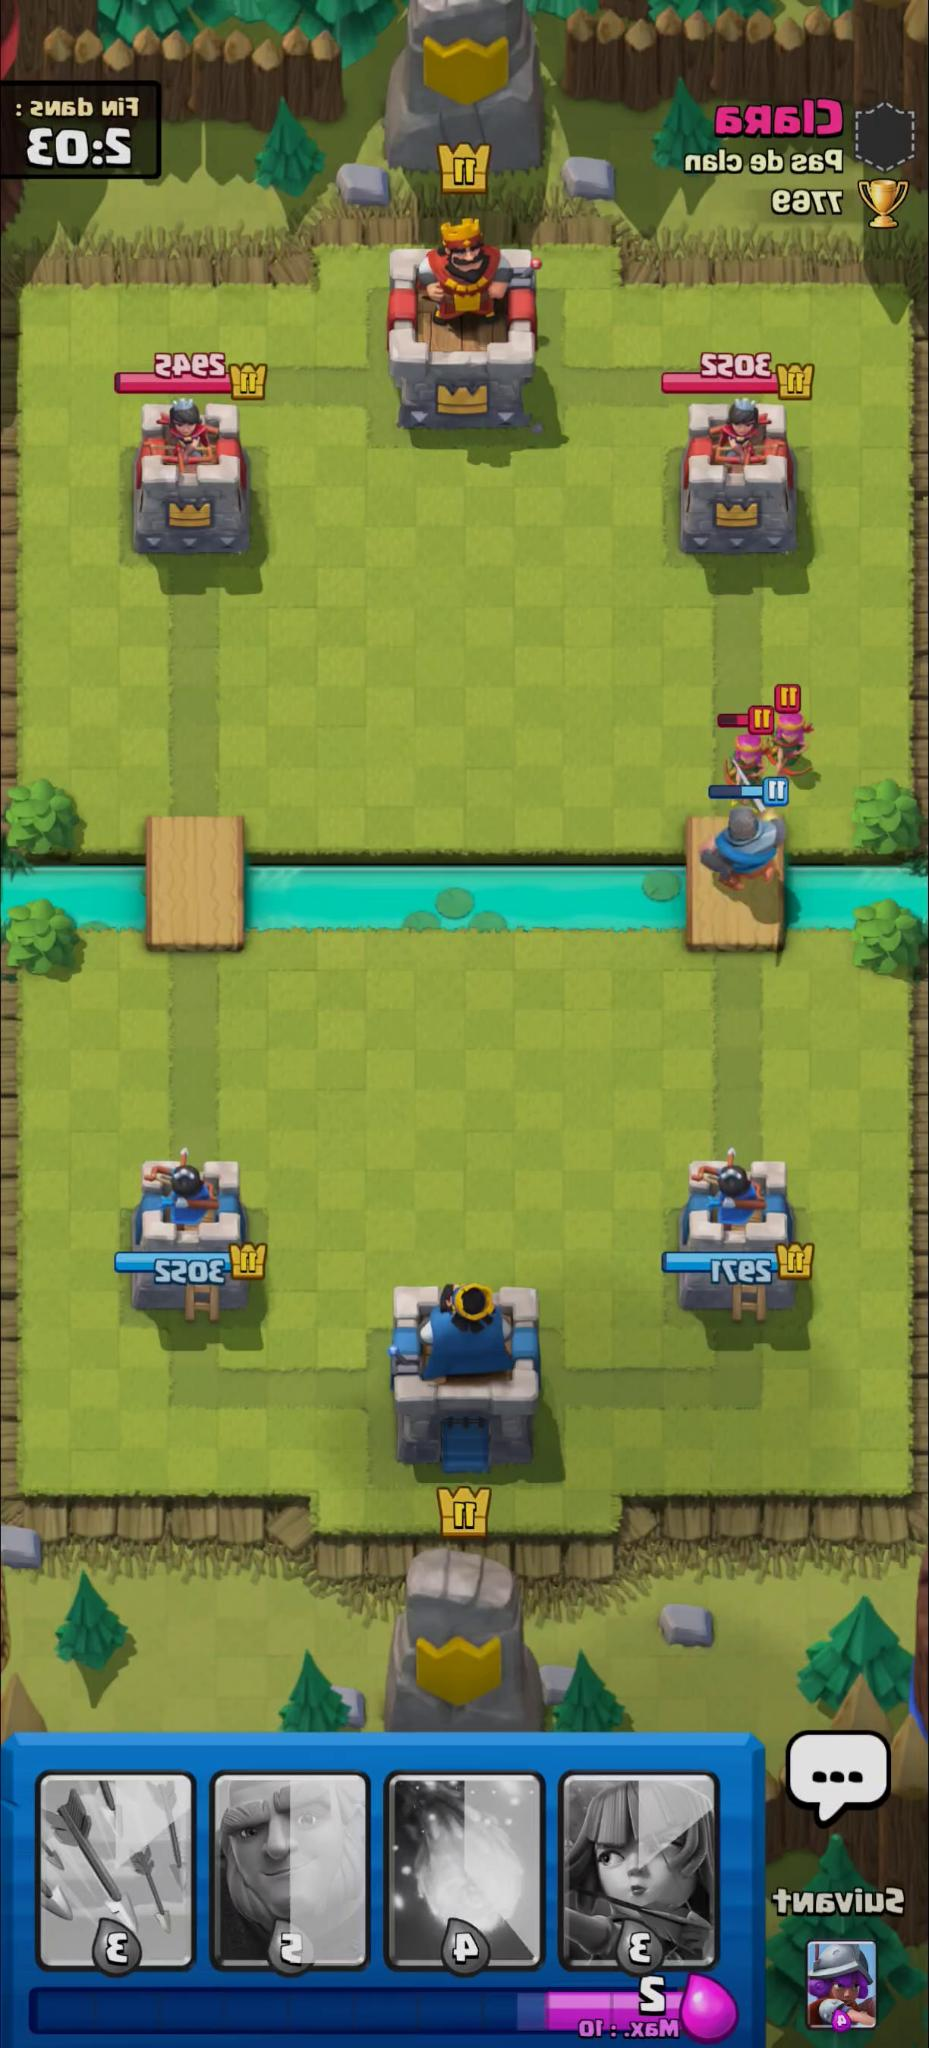archere: (763, 709, 815, 782), (721, 735, 763, 807)
chevalier: (700, 759, 779, 895)
